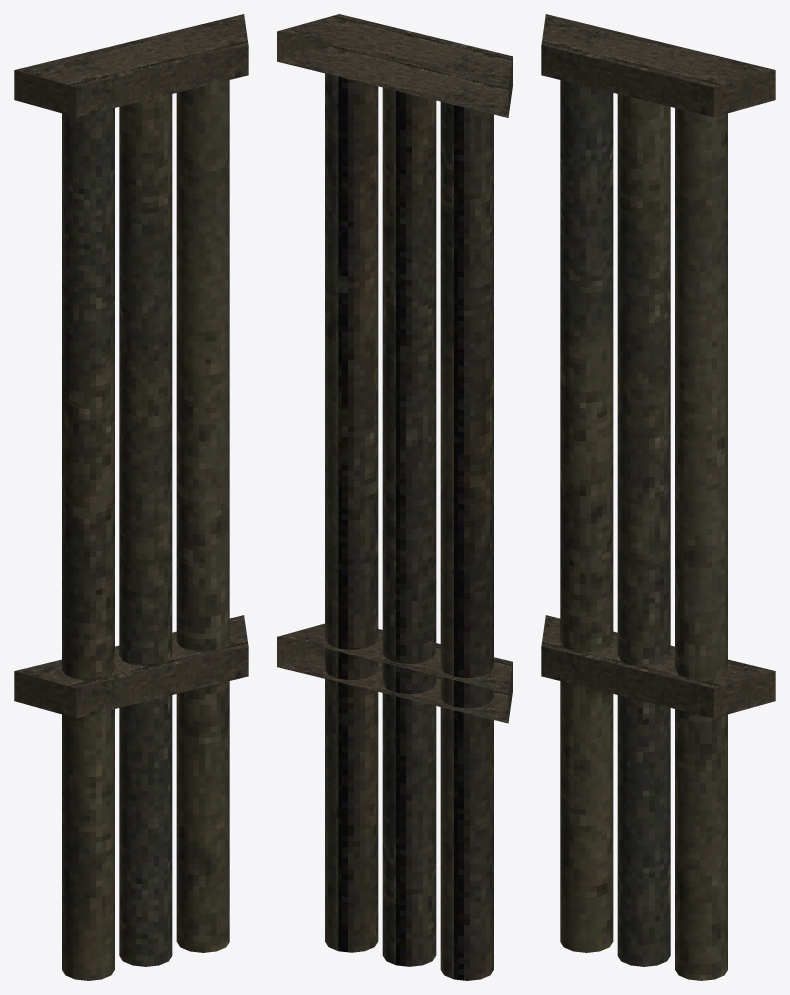
Rendered from pipes_hr_1_vertical_end_2.glb.
3 views of the same model, side by side, from view 1: azimuth 30°, elevation 25°; view 2: azimuth 150°, elevation 25°; view 3: azimuth 330°, elevation 25° (orthographic).
Parts seen in each view (by area): view 1: pipes_hr_1_vertical_end_2; view 2: pipes_hr_1_vertical_end_2; view 3: pipes_hr_1_vertical_end_2.
Boxes of the visible parts, x1,y1,x2,y2 form: pipes_hr_1_vertical_end_2: (14,14,248,980); pipes_hr_1_vertical_end_2: (277,14,512,980); pipes_hr_1_vertical_end_2: (541,14,775,980).
Size of the model in its own units: 0.4 by 1.5 by 0.1.
1 material, 1 textured.
